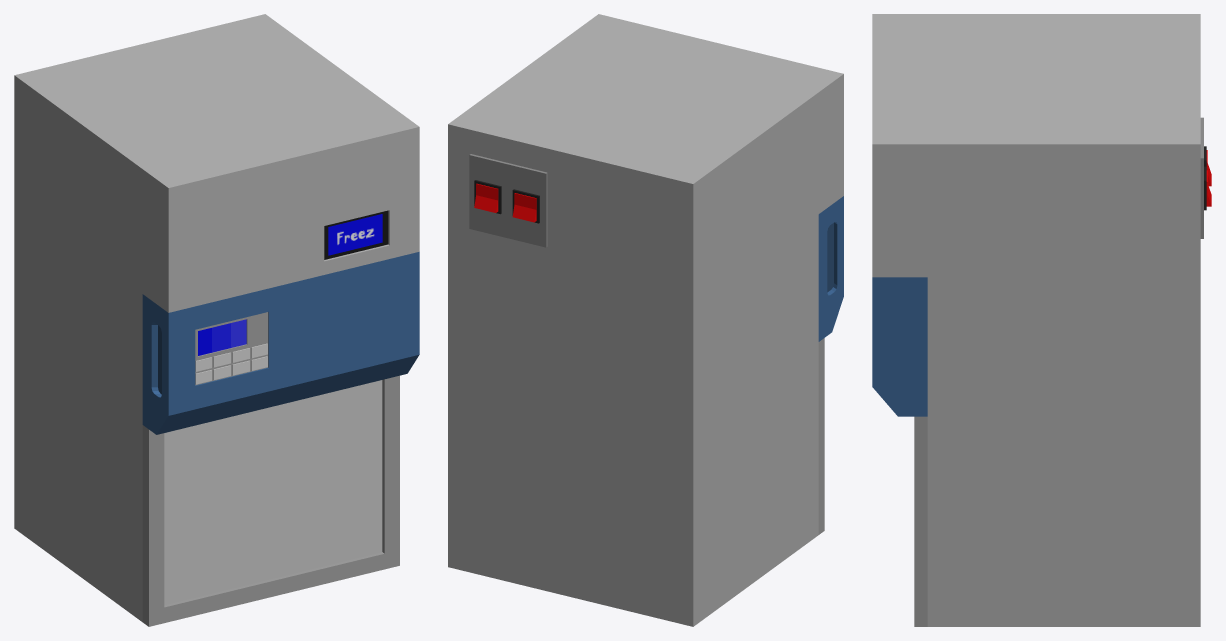
The model's file is Int_ScienceDevice01.fbx.
3 views of the same model, side by side, from view 1: azimuth 30°, elevation 25°; view 2: azimuth 150°, elevation 25°; view 3: azimuth 270°, elevation 25° (orthographic). The views are drawn at different scales.
Visible parts, largest first — view 1: Int_ScienceDevice01, Int_ScienceDeviceDoor01; view 2: Int_ScienceDevice01, Int_ScienceDeviceDoor01; view 3: Int_ScienceDevice01, Int_ScienceDeviceDoor01.
Boxes of the visible parts, x1=… form: Int_ScienceDevice01: x1=14, y1=14, x2=419, y2=621; Int_ScienceDeviceDoor01: x1=142, y1=251, x2=419, y2=626; Int_ScienceDevice01: x1=448, y1=14, x2=843, y2=626; Int_ScienceDeviceDoor01: x1=818, y1=196, x2=843, y2=534; Int_ScienceDevice01: x1=872, y1=14, x2=1211, y2=626; Int_ScienceDeviceDoor01: x1=872, y1=277, x2=927, y2=626.
Size of what is drawn, in the model's own units: 28.42 by 31.25 by 49.03.
